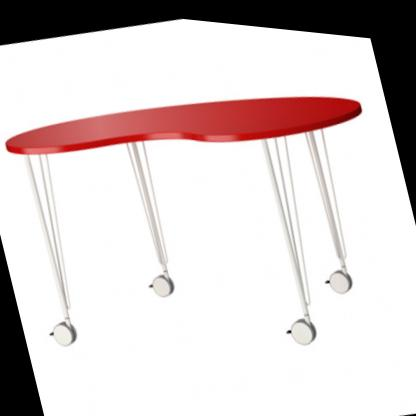Table: (0, 34, 416, 415)
